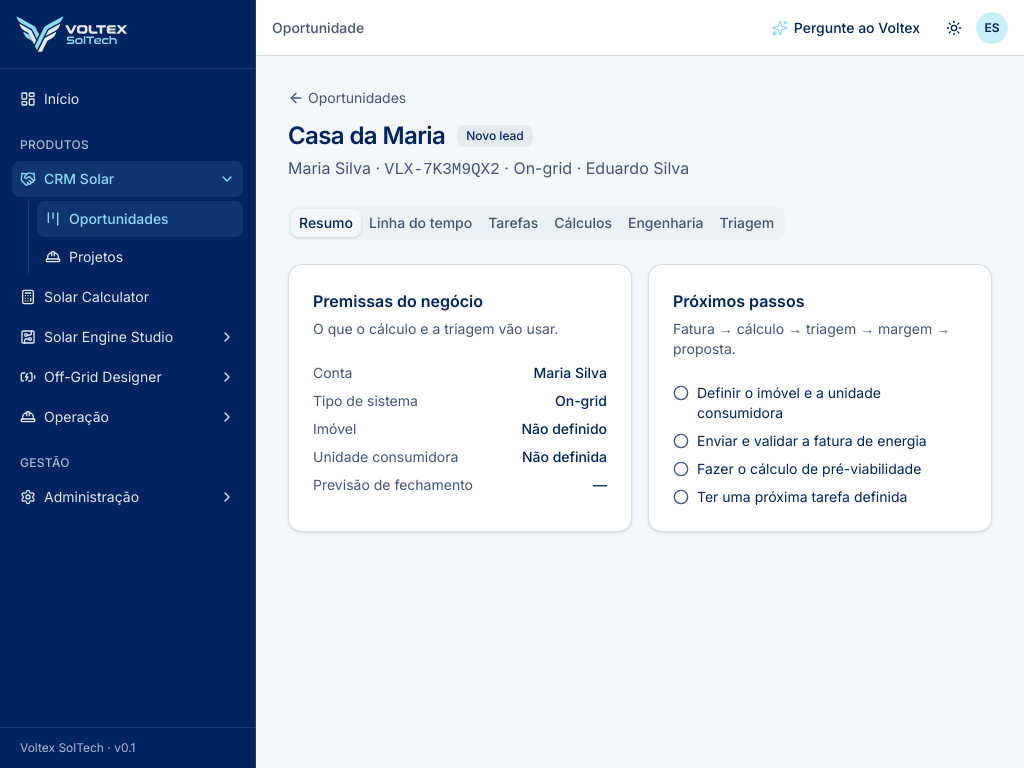
Oportunidade · Linha do tempo › quem só lê não vê o campo de nota
Click the tab "Linha do tempo" at (421, 223), box x1=361 y1=209 x2=480 y2=237
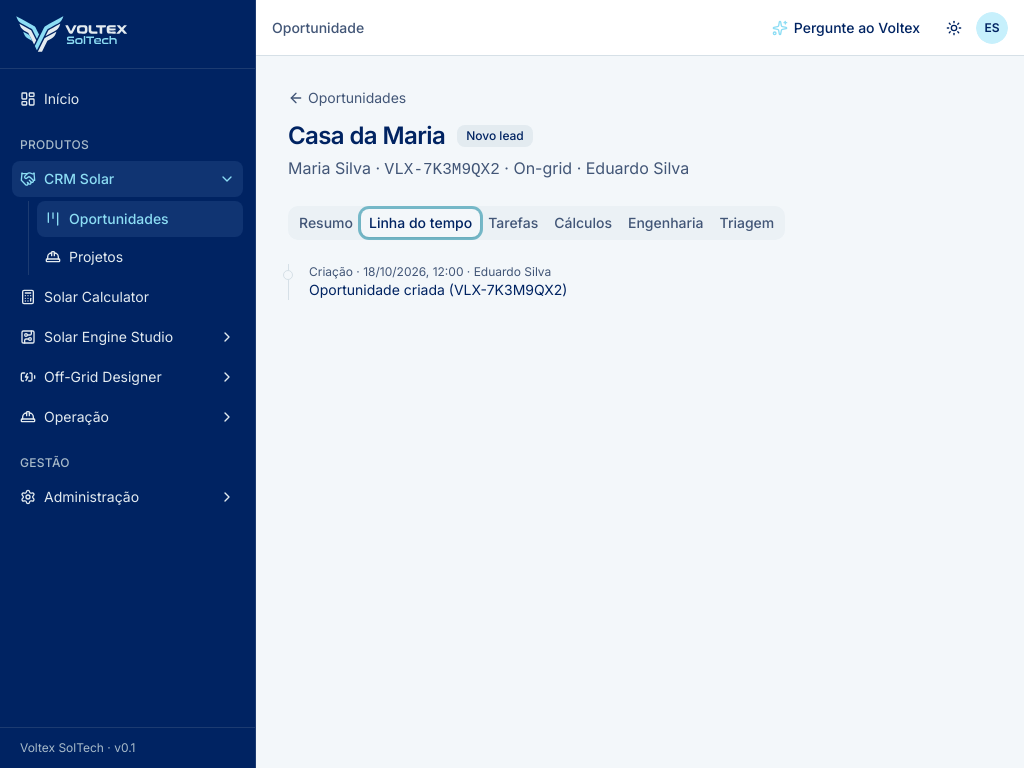
expect the text "Oportunidade criada (VLX-7K3M9QX2)" is shown: met, box x1=309 y1=281 x2=567 y2=298
